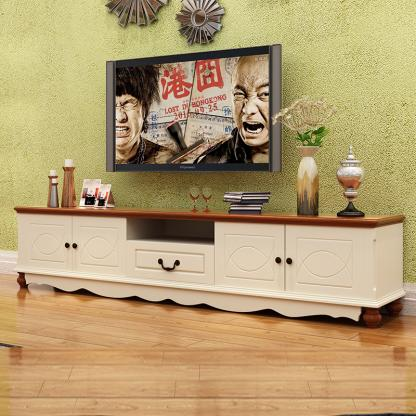TV stand: (13, 207, 407, 329)
Wooden floor: (0, 270, 416, 416)
